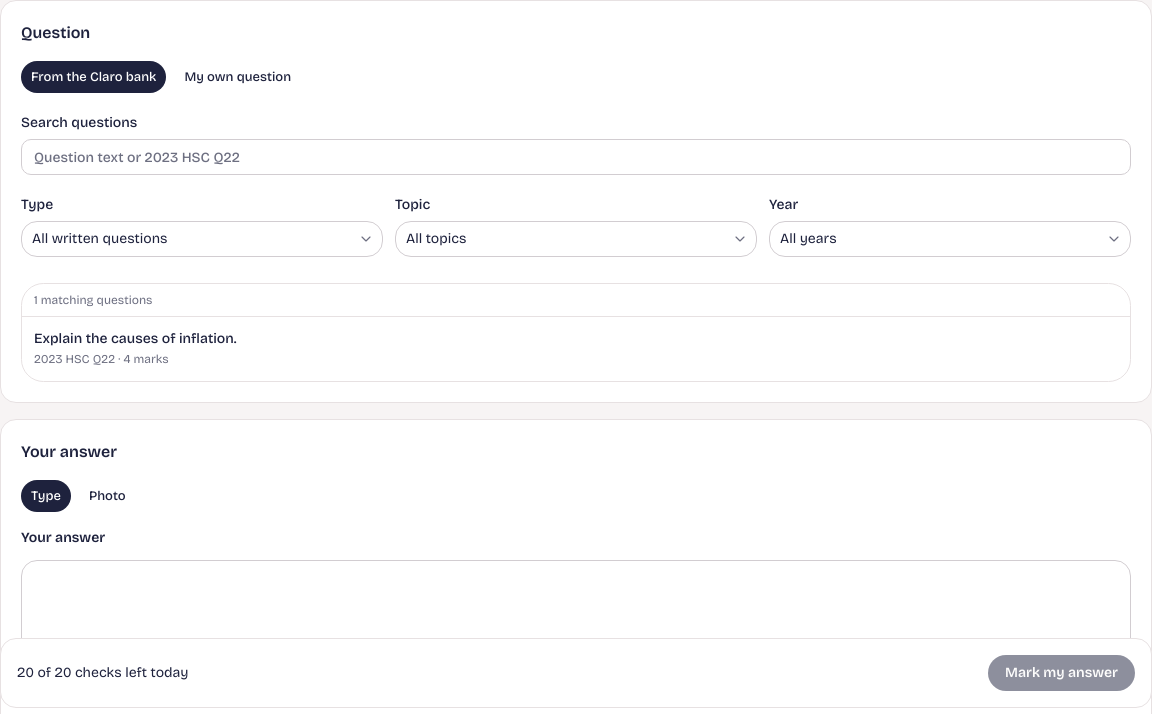
Test: selects a bank question from the search combobox using the keyboard
The width and height of the screenshot is (1152, 714).
Type "inflation" into the dropdown labelled "Search questions" at x=576, y=157, box [21,139,1131,175]
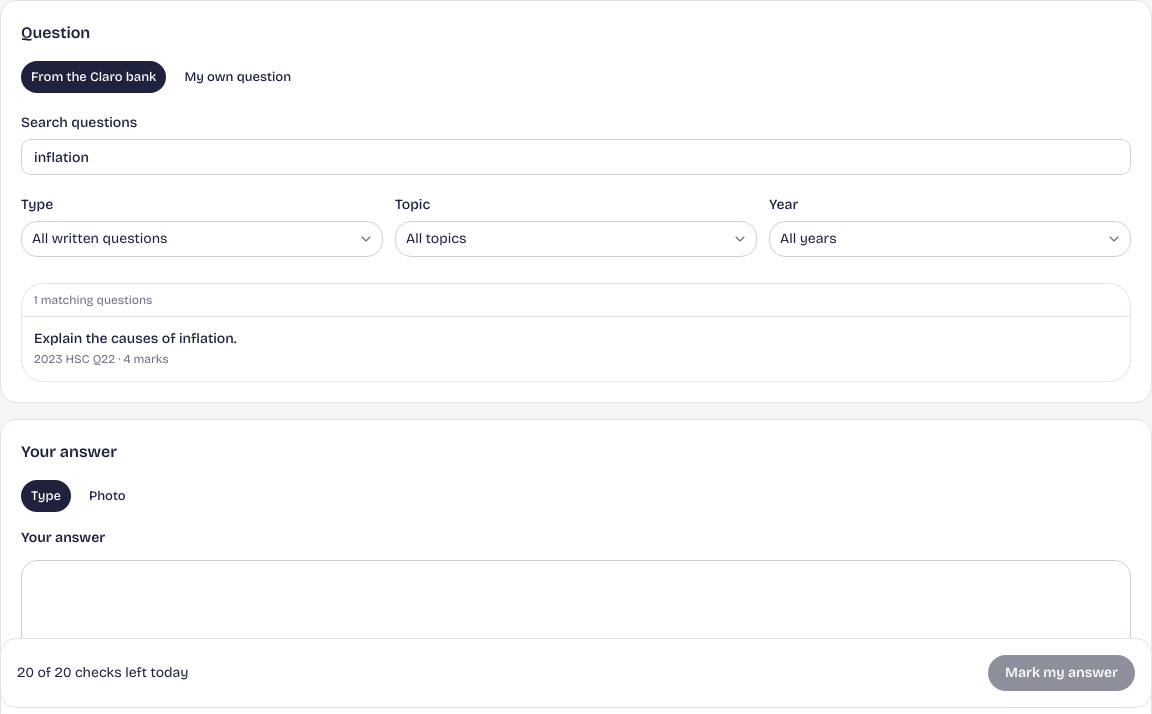
Press ArrowDown in the dropdown labelled "Search questions", box [21,139,1131,175]
Press Enter in the dropdown labelled "Search questions", box [21,139,1131,175]
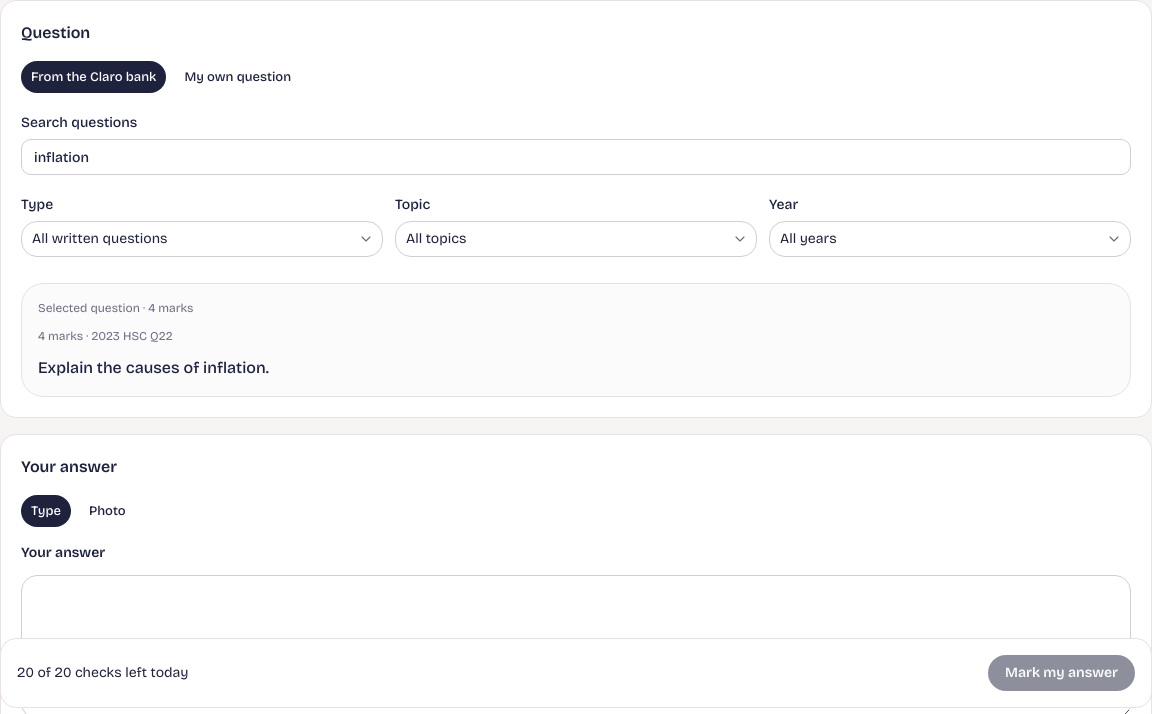
Expected: the text "Selected question · 4 marks" is shown, [38,301,193,315]
